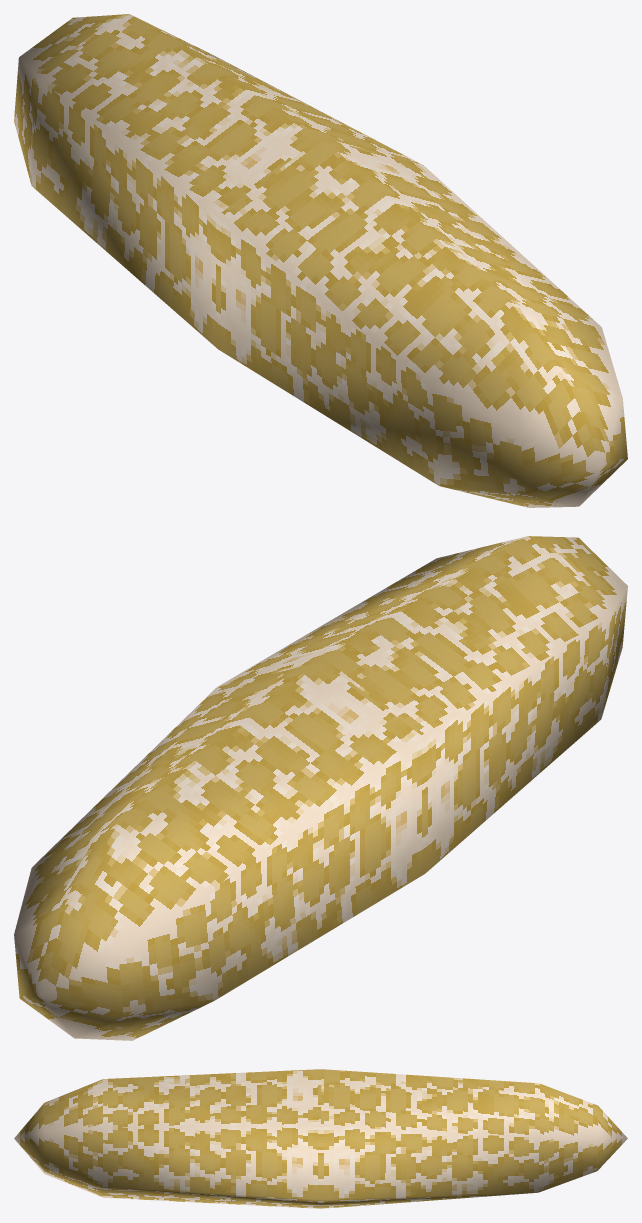
Rendered from CornCob.fbx.
3 views of the same model, one above another, from view 1: azimuth 30°, elevation 25°; view 2: azimuth 150°, elevation 25°; view 3: azimuth 270°, elevation 25° (orthographic). The views are drawn at different scales.
Visible parts, largest first — view 1: CornCob; view 2: CornCob; view 3: CornCob.
Boxes of the visible parts, x1,y1,x2,y2 form: CornCob: (14,14,627,507); CornCob: (14,536,627,1040); CornCob: (14,1069,627,1208).
Bounding box in the file's own units: 8.14 × 9.59 × 38.22.
